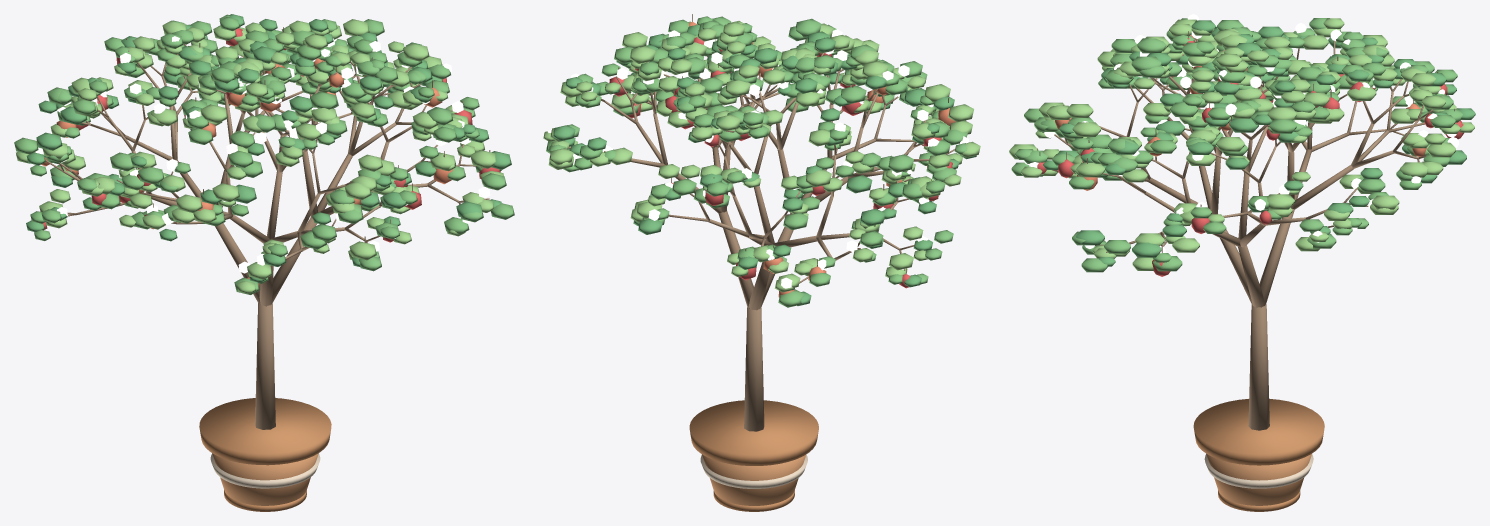
File: apple-tree.glb
The picture shows the model from 3 angles, left to right: view 1: azimuth 30°, elevation 25°; view 2: azimuth 150°, elevation 25°; view 3: azimuth 270°, elevation 25°; orthographic projection. The views are drawn at different scales.
Parts seen in each view (by area): view 1: AT_0001_pot, AT_0000_pot, AT_0005_branch, AT_0002_pot, AT_0640_branch, AT_0006_branch, AT_0003_pot; view 2: AT_0001_pot, AT_0000_pot, AT_0005_branch, AT_0002_pot, AT_0640_branch, AT_0003_pot, AT_0006_branch; view 3: AT_0001_pot, AT_0000_pot, AT_0005_branch, AT_0002_pot, AT_0006_branch, AT_0640_branch, AT_0003_pot, AT_0325_branch.
Boxes of the visible parts, x1,y1,x2,y2 form: AT_0001_pot: (199, 398, 331, 465); AT_0000_pot: (212, 453, 318, 505); AT_0005_branch: (255, 303, 275, 429); AT_0002_pot: (210, 453, 320, 488); AT_0640_branch: (271, 217, 317, 304); AT_0006_branch: (215, 223, 260, 304); AT_0003_pot: (224, 490, 306, 511); AT_0001_pot: (689, 400, 818, 465); AT_0000_pot: (702, 454, 806, 505); AT_0005_branch: (744, 307, 764, 431); AT_0002_pot: (700, 455, 807, 488); AT_0640_branch: (718, 211, 753, 308); AT_0003_pot: (713, 490, 794, 511); AT_0006_branch: (748, 261, 769, 310); AT_0001_pot: (1193, 399, 1324, 465); AT_0000_pot: (1206, 453, 1311, 505); AT_0005_branch: (1248, 304, 1269, 430); AT_0002_pot: (1204, 454, 1313, 488); AT_0006_branch: (1259, 209, 1294, 305); AT_0640_branch: (1238, 245, 1265, 307); AT_0003_pot: (1218, 490, 1300, 511); AT_0325_branch: (1220, 223, 1252, 305).
Bounding box in the file's own units: 23.38 × 25.75 × 23.78.
